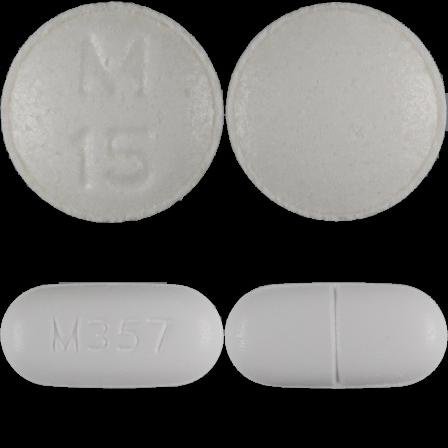67544-021: (0, 0, 224, 224)
